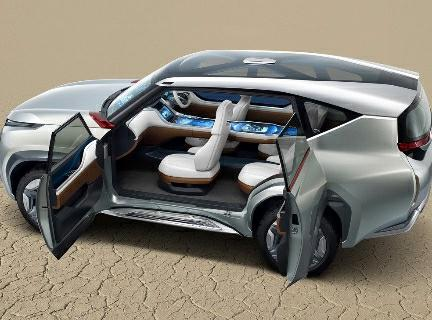三菱-GC-PHEV: (2, 43, 432, 275)
